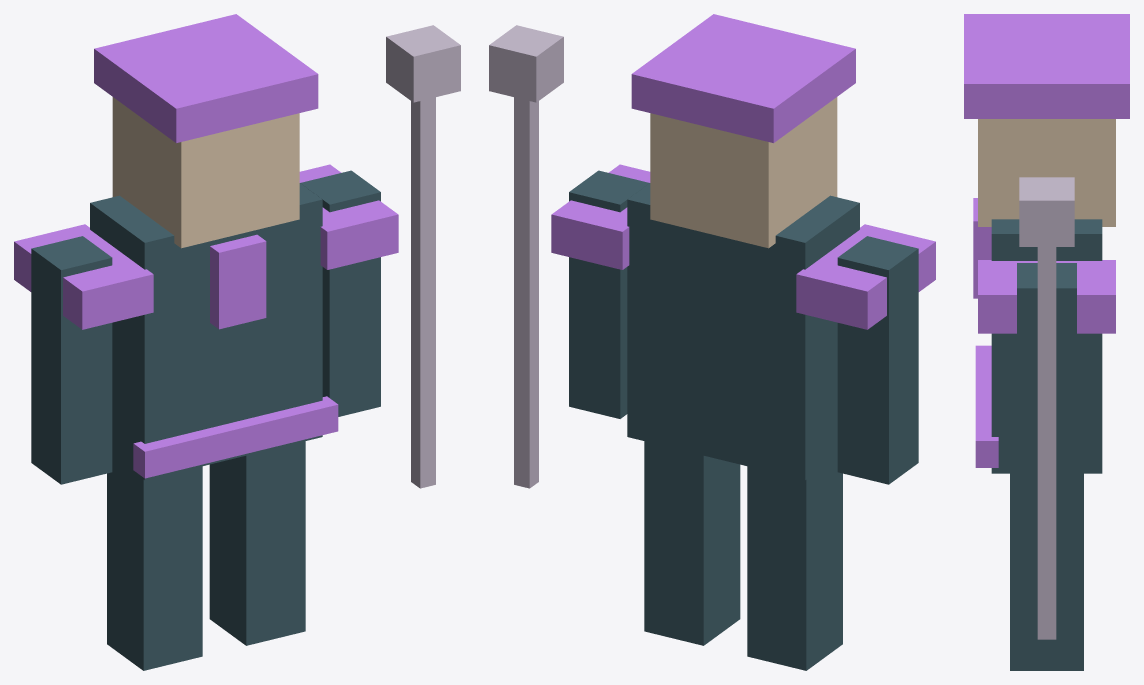
Rendered from 10_kael_voidrill_medic_of.glb.
The picture shows the model from 3 angles, left to right: view 1: azimuth 30°, elevation 25°; view 2: azimuth 150°, elevation 25°; view 3: azimuth 270°, elevation 25°; orthographic projection.
Visible parts, largest first — view 1: Kael Voidrill, Medic of; view 2: Kael Voidrill, Medic of; view 3: Kael Voidrill, Medic of.
Part boxes in pixels (x1,y1,x2,y2): Kael Voidrill, Medic of: [14, 14, 460, 670]; Kael Voidrill, Medic of: [489, 14, 935, 670]; Kael Voidrill, Medic of: [964, 14, 1129, 670].
Bounding box in the file's own units: 1.02 × 1.4 × 0.3618.
